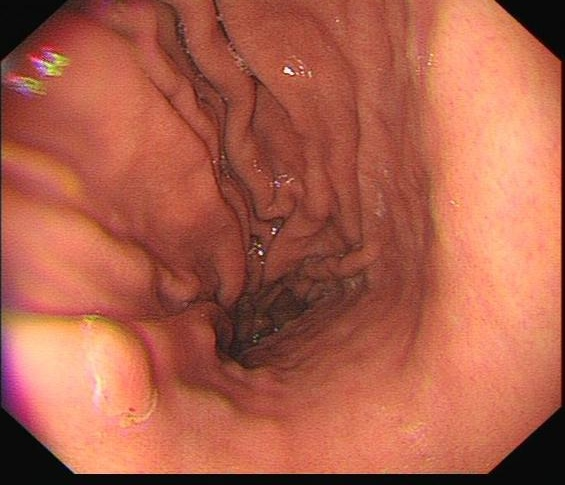Polyp: (82, 312, 157, 425)
